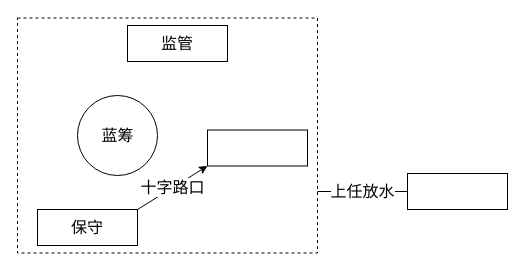
This 525x270 diagram has some shape labels left out. Here are the shapes that lost their labels. From the top down, the centre of each, then its label:
[257,147]: 自由
[457,191]: 美国
